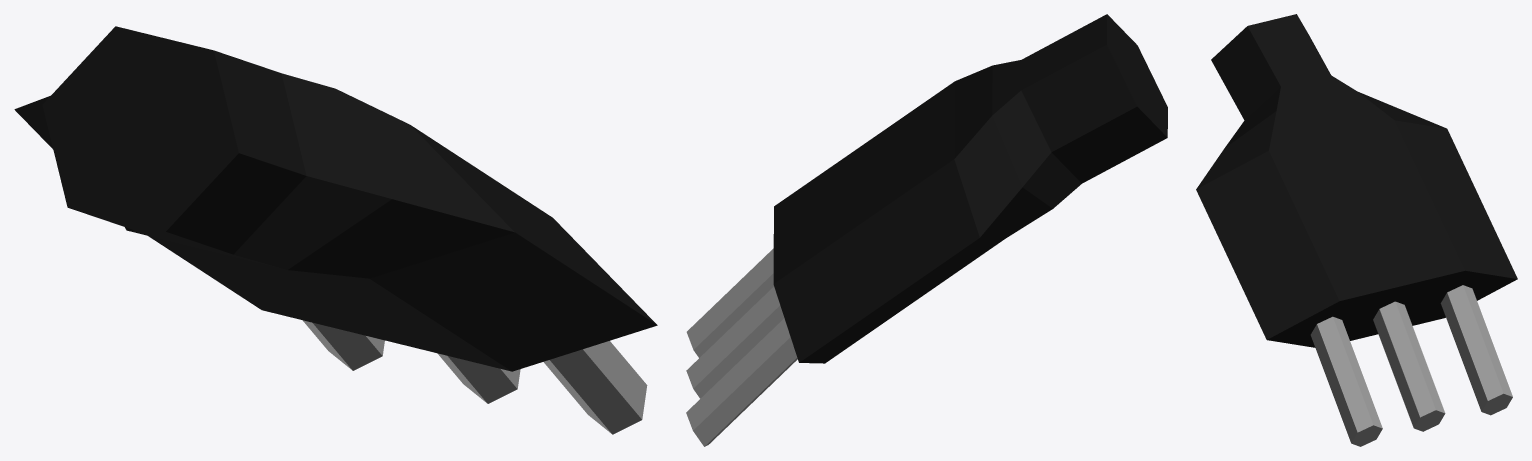
The model's file is spina.fbx.
3 renders of one model, left to right at view 1: azimuth 30°, elevation 25°; view 2: azimuth 150°, elevation 25°; view 3: azimuth 270°, elevation 25°, orthographic. The views are drawn at different scales.
Parts seen in each view (by area): view 1: spina; view 2: spina; view 3: spina.
Boxes of the visible parts, left/top/right/bottom form: spina: left=14, top=26, right=657, bottom=434; spina: left=686, top=14, right=1167, bottom=446; spina: left=1196, top=14, right=1517, bottom=446.
Bounding box in the file's own units: 0.0333 × 0.0284 × 0.028.
